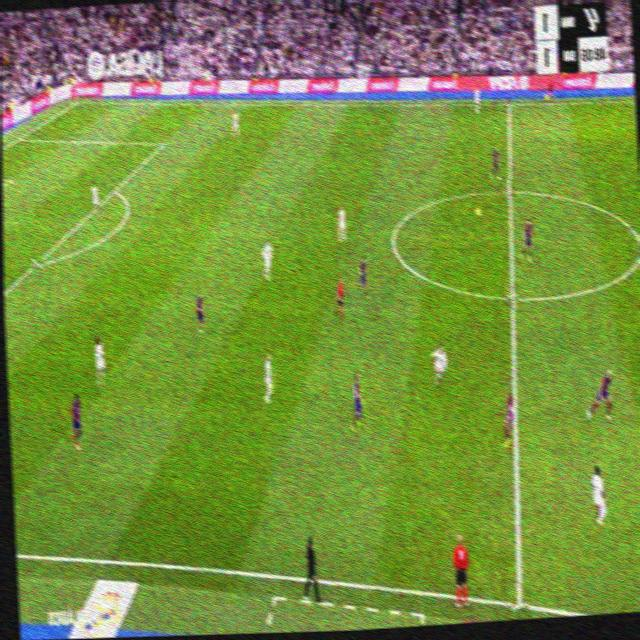bigarea_top_inner: (159, 135, 167, 151)
bigarea_top_outter: (15, 130, 24, 143)
bottom_arc_area_intersection: (31, 253, 43, 272)
corner: (72, 94, 82, 106)
halfcircle_bottom: (505, 282, 519, 312)
halfcircle_top: (503, 178, 516, 202)
midline_bottom_intersection: (510, 582, 529, 618)
midline_top_intersection: (504, 95, 513, 112)
smallarea_top_inner: (5, 171, 14, 186)
top_arc_area_intersection: (110, 181, 119, 197)
